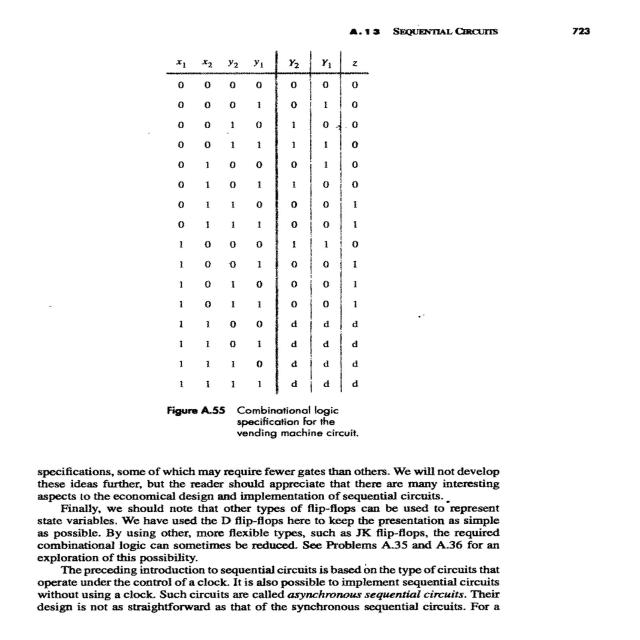diagram: (117, 43, 460, 451)
